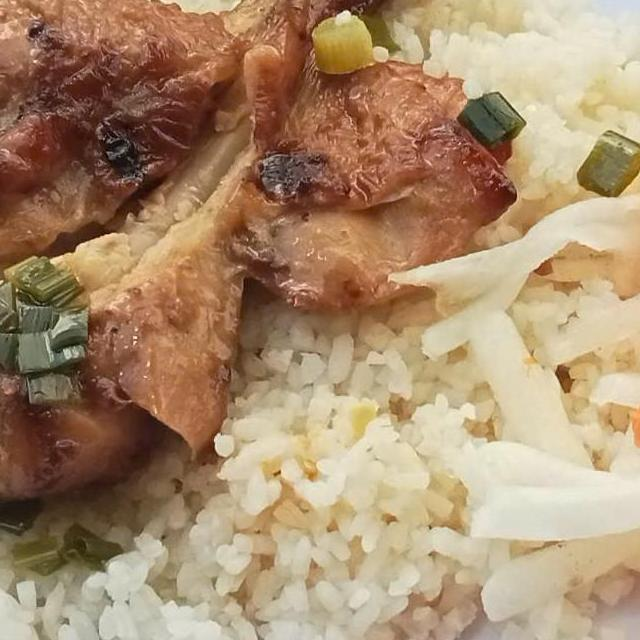com: (76, 273, 588, 640), (366, 0, 640, 309), (0, 112, 104, 640), (0, 0, 312, 109)
dua chua: (373, 109, 640, 640)
thit ga: (0, 0, 521, 537)
